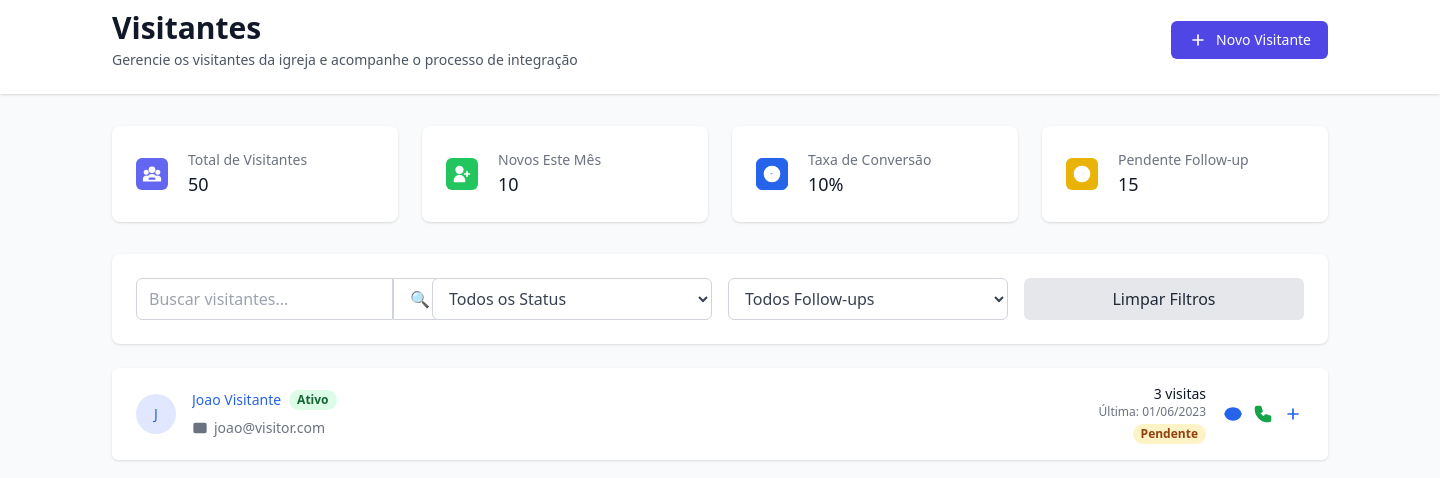
Test: VisitorsPage › Filtering › should clear filters when clicking clear button
Check: the text "Joao Visitante" is shown, box [192,390,281,410]
Set some filters first
Type "test" into the field with placeholder "Buscar visitantes..." at (264, 299), box [136,278,393,320]
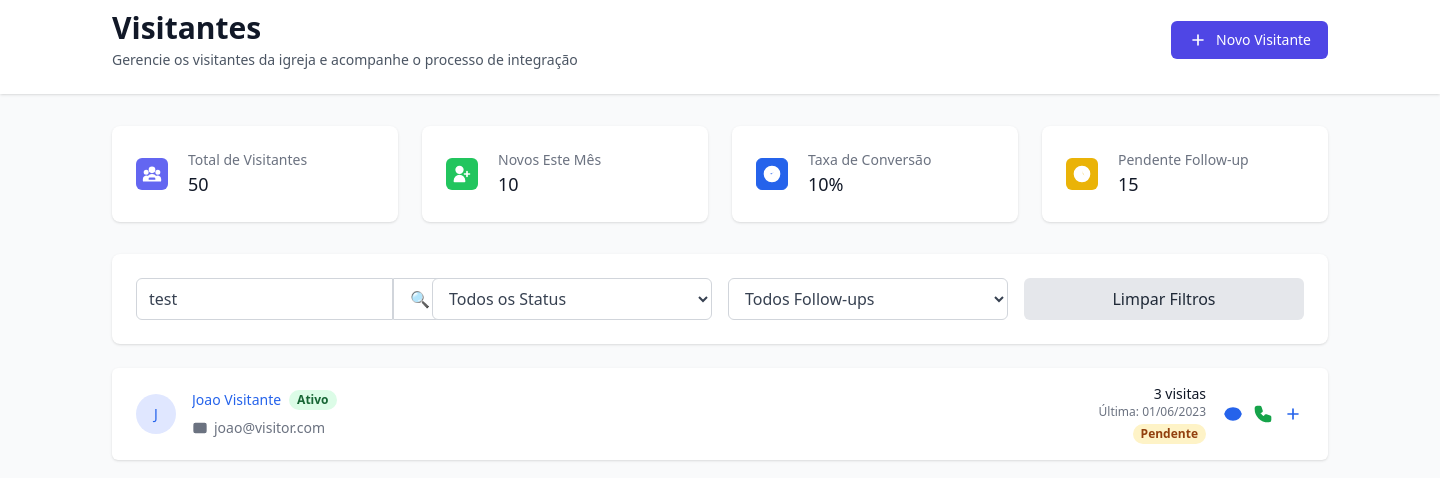
Clear filters
Click the button "Limpar Filtros" at (1164, 299), box [1024,278,1304,320]
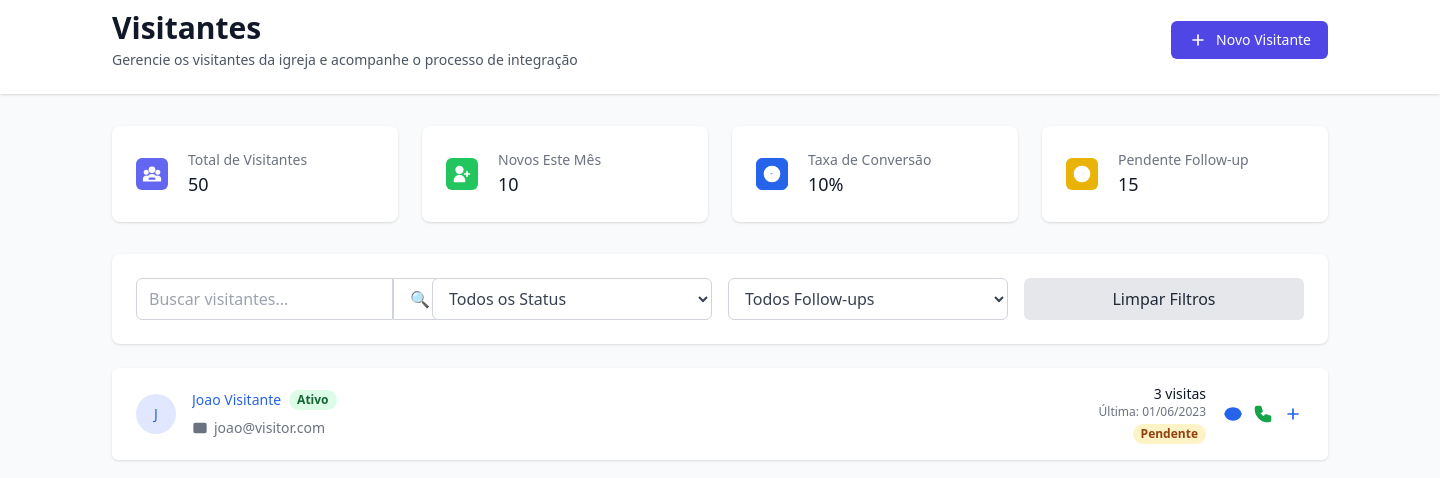
Check: the field with placeholder "Buscar visitantes..." is empty, box [136,278,393,320]
